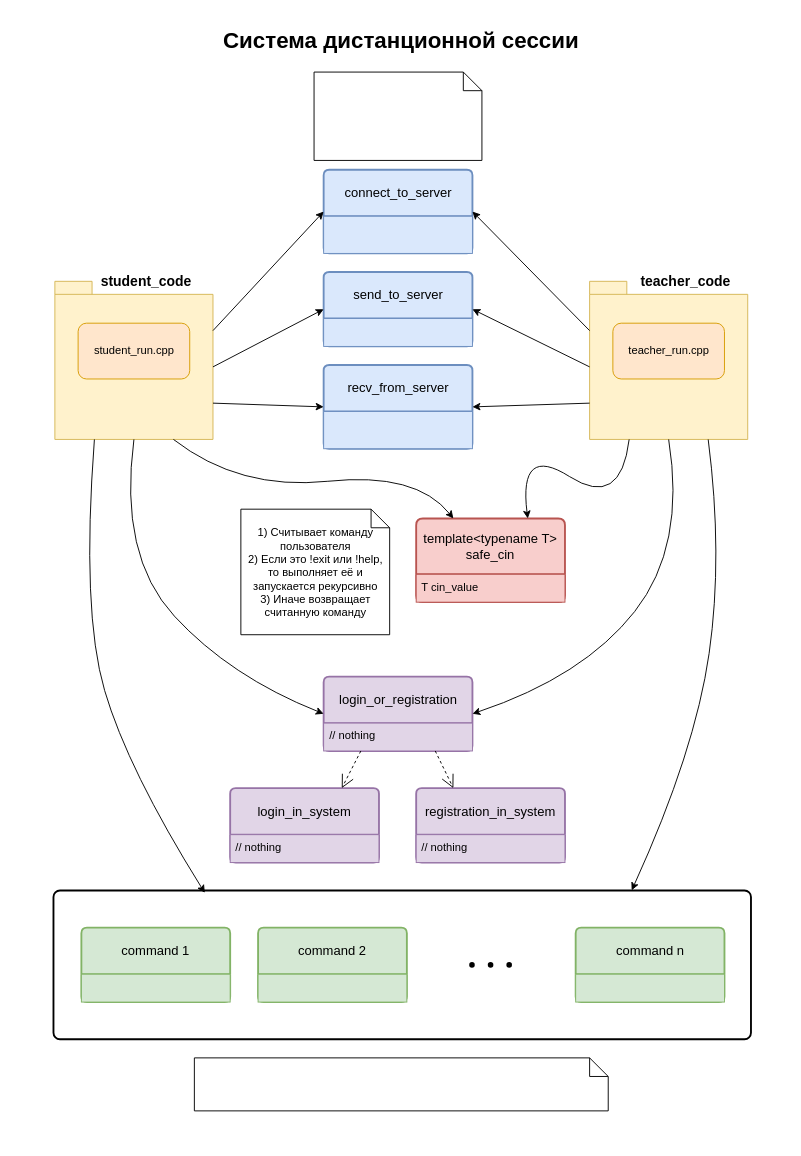
Some shapes in this 801 by 1156 pixel diagram are drawn without their labels. The centre of each missing label's shape, as x and y in pixels:
"char* message size_t sz" belongs at [397,430].
"size_t ip_server size_t port" belongs at [397,234].
"something 1" belongs at [155,987].
"something 2" belongs at [332,987].
"something n" belongs at [649,987].
"std::string message" belongs at [397,332].
"Функции для взаимодействия программ студента и преподавателя с сервером" belongs at [397,115].
"Функции, отвечающие за остальные команды студентов и преподавателей" belongs at [400,1084].
